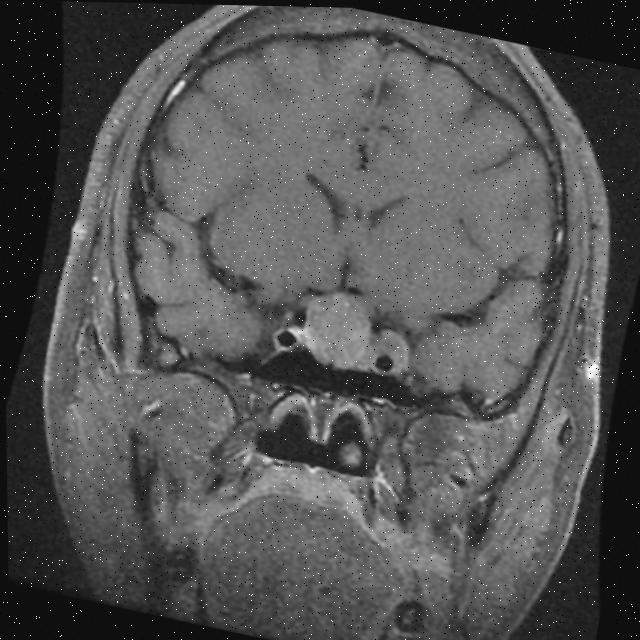Pituitary: (294, 284, 388, 377)
